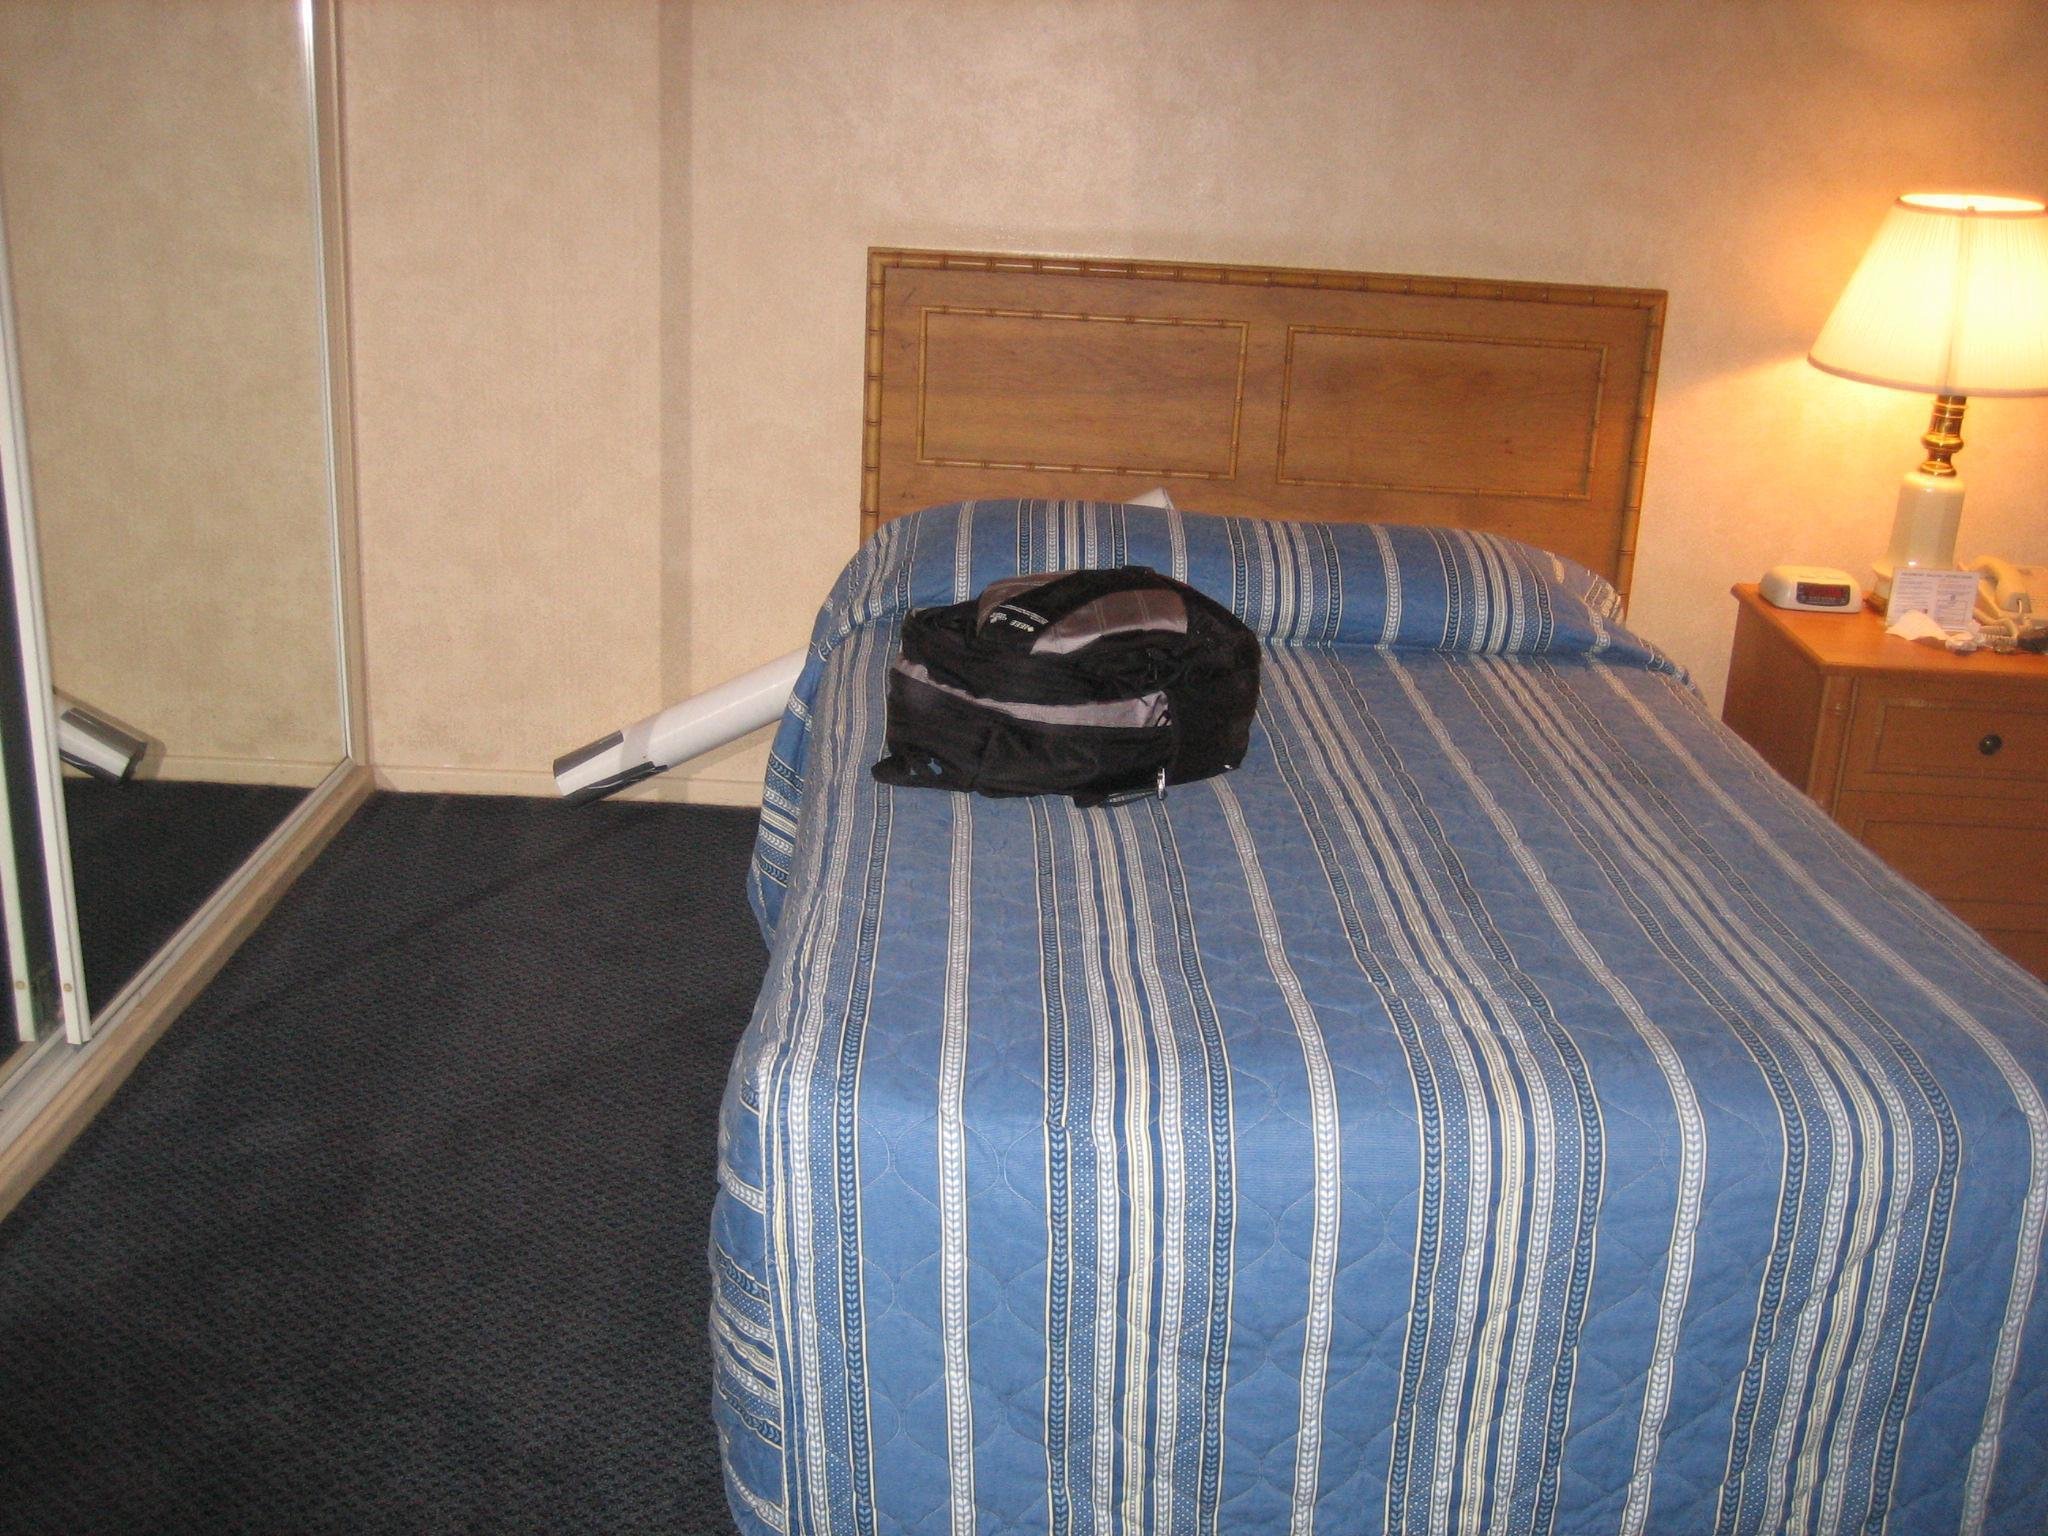Cama: (727, 255, 2046, 1534)
Otro Obstaculo: (884, 532, 1261, 797)
